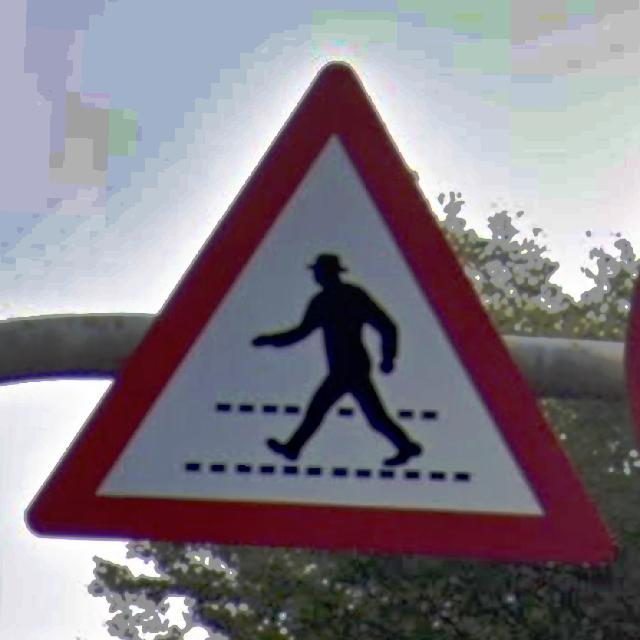pedestriancross: (26, 63, 621, 564)
